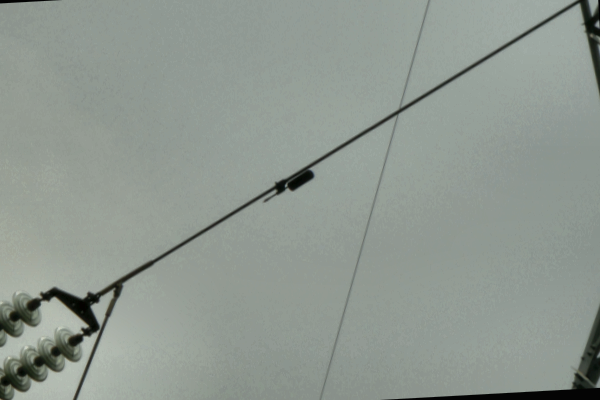damper_defect: (261, 168, 315, 204)
